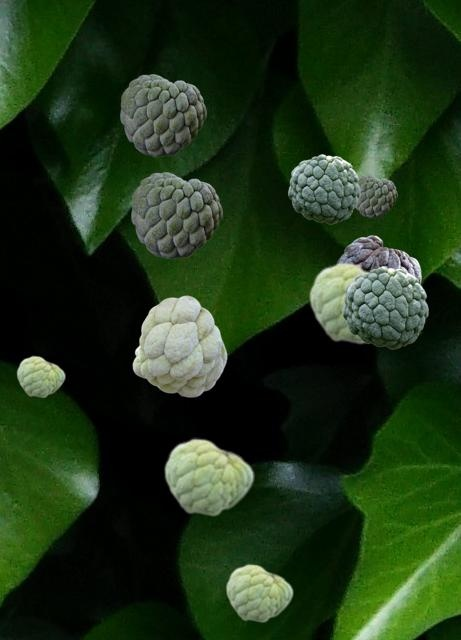atis: (132, 295, 226, 396), (131, 172, 221, 257), (163, 437, 253, 516), (342, 266, 427, 348), (120, 74, 205, 155), (308, 261, 369, 344), (288, 154, 359, 223), (337, 235, 420, 283), (225, 563, 292, 622), (16, 355, 64, 397), (356, 175, 396, 216)
